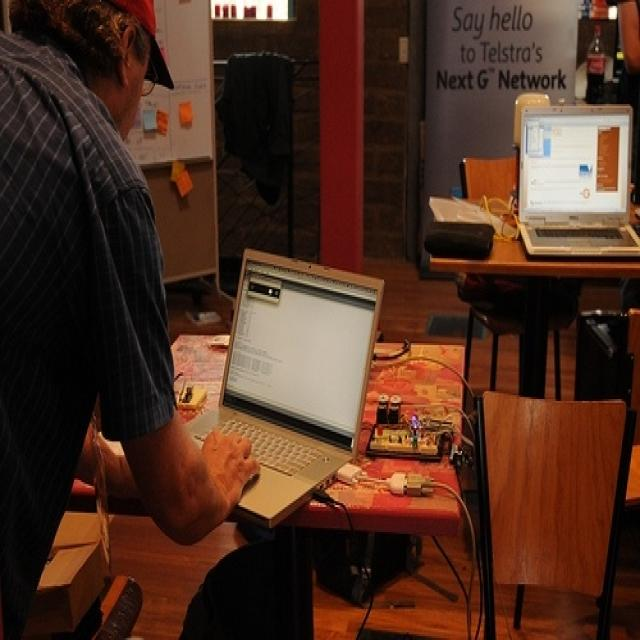E-waste: (193, 198, 460, 532), (509, 94, 640, 272)
